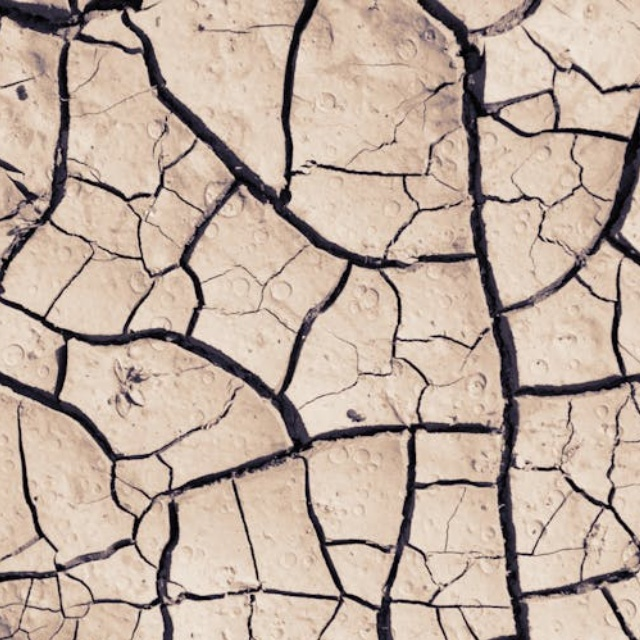深大裂缝: (390, 0, 603, 640)
网状裂隙: (0, 89, 378, 503), (0, 510, 225, 640)
